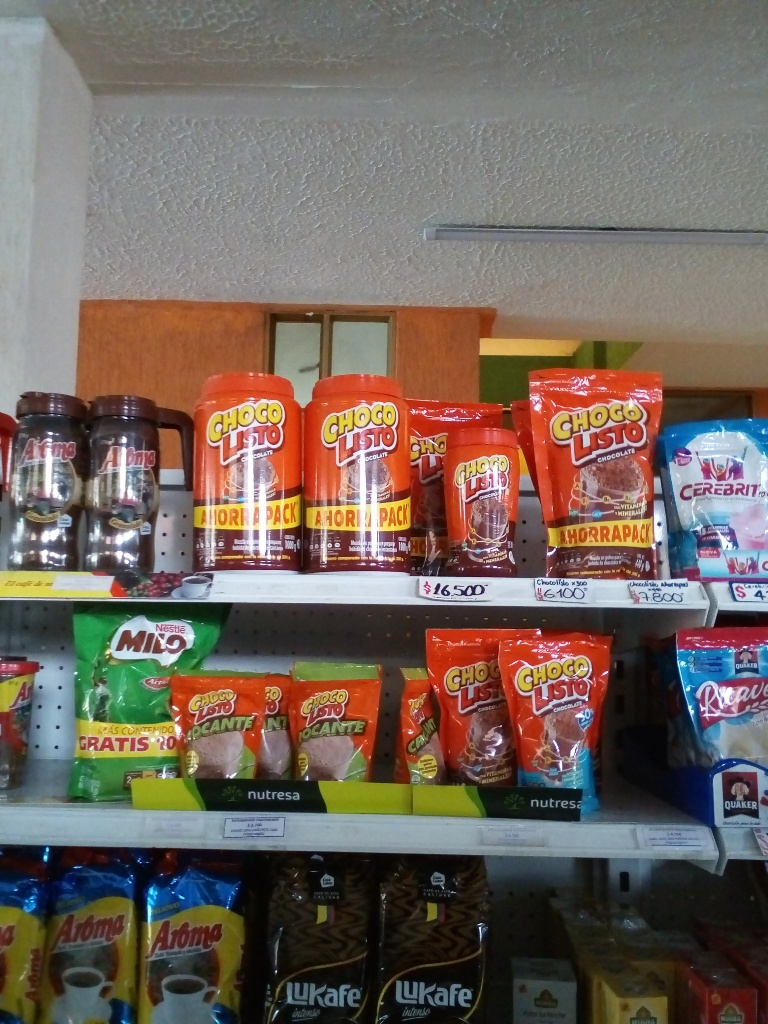COL0170102DYP10000: (178, 674, 272, 782)
COL0170103DYP20000: (430, 628, 544, 784)
COL0170103DYP44000: (530, 371, 670, 581)
COL0170103TRR00100: (188, 372, 303, 569)
COL0170103TRR30000: (427, 426, 529, 576)
COL0170104DYP20000: (501, 636, 611, 823)
